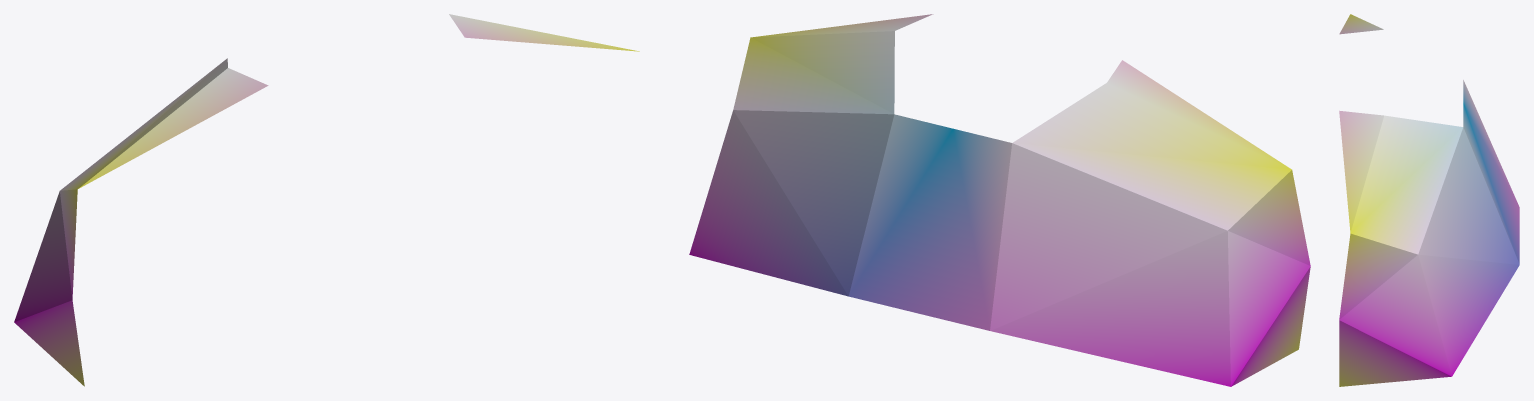
The picture shows the model from 3 angles, left to right: view 1: azimuth 30°, elevation 25°; view 2: azimuth 150°, elevation 25°; view 3: azimuth 270°, elevation 25°; orthographic projection. The views are drawn at different scales.
Parts seen in each view (by area): view 1: model_1148; view 2: model_1148; view 3: model_1148.
Part boxes in pixels (x1,y1,x2,y2): model_1148: (14,14,639,386); model_1148: (689,14,1310,386); model_1148: (1339,14,1519,386).
Size of the model in its own units: 48 by 20 by 16.
